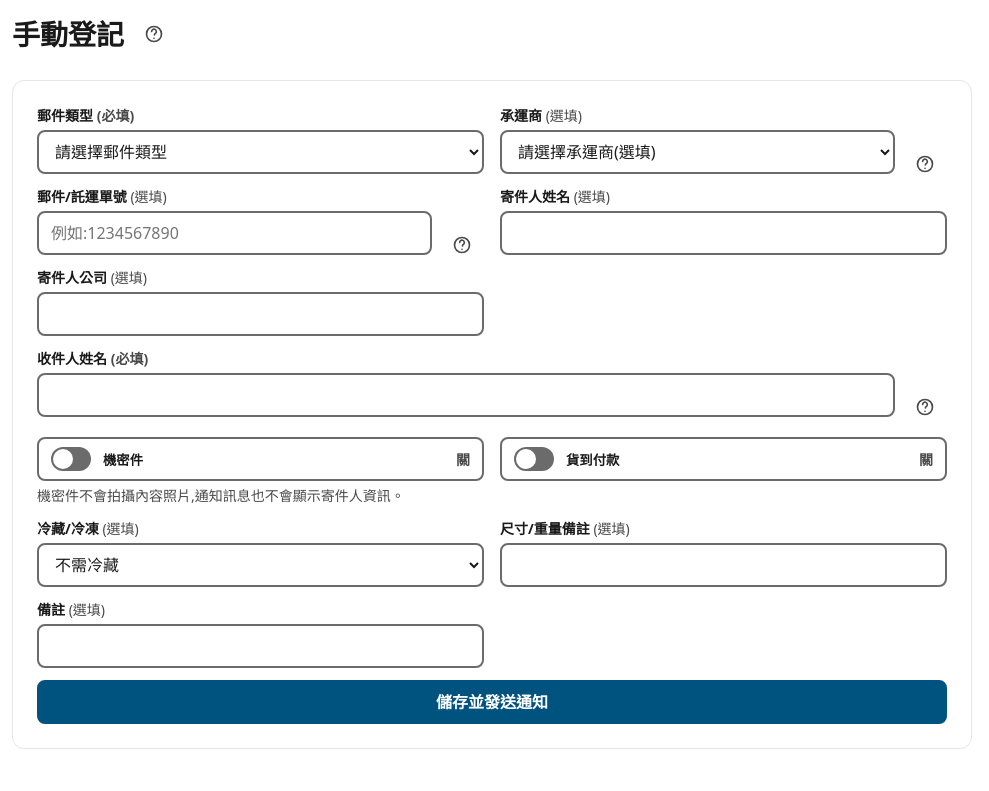
InboundRegisterPage — "其他" carrier free-text field › blocks submit with a validation error when "其他" is selected but the free-text field is left blank
Select "包裹" in the dropdown labelled "郵件類型 (必填)": (260, 152) [37,130,484,174]
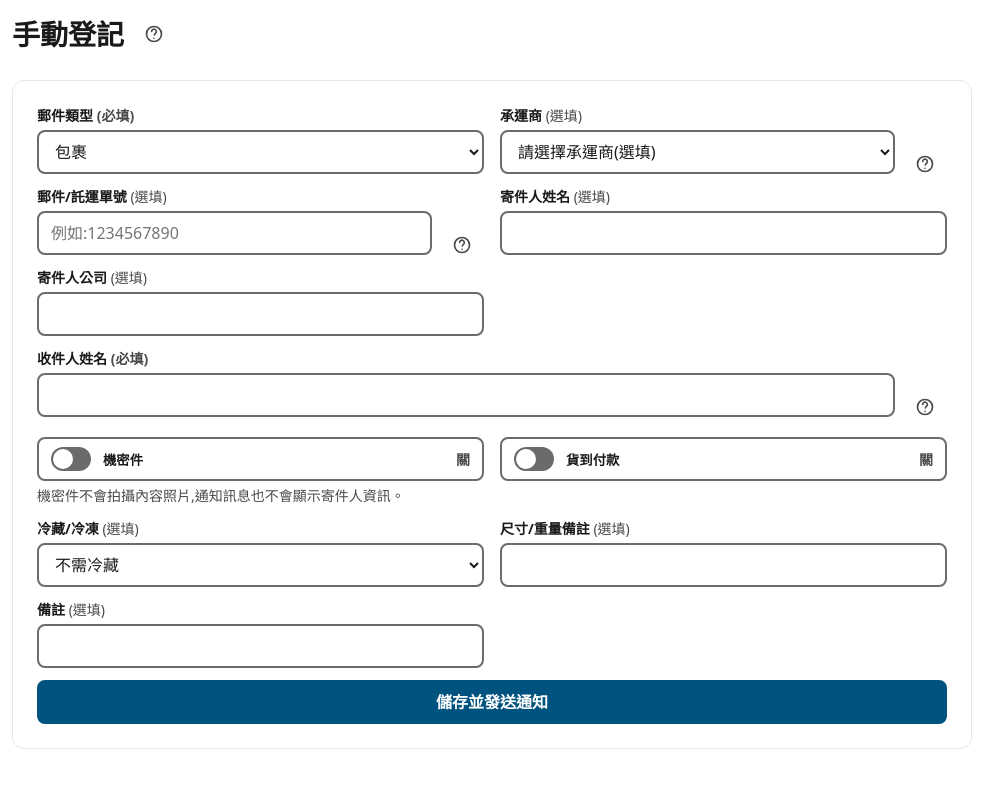
In the field labelled "收件人姓名 (必填)": (466, 395) [37,373,895,417], type "王小明"
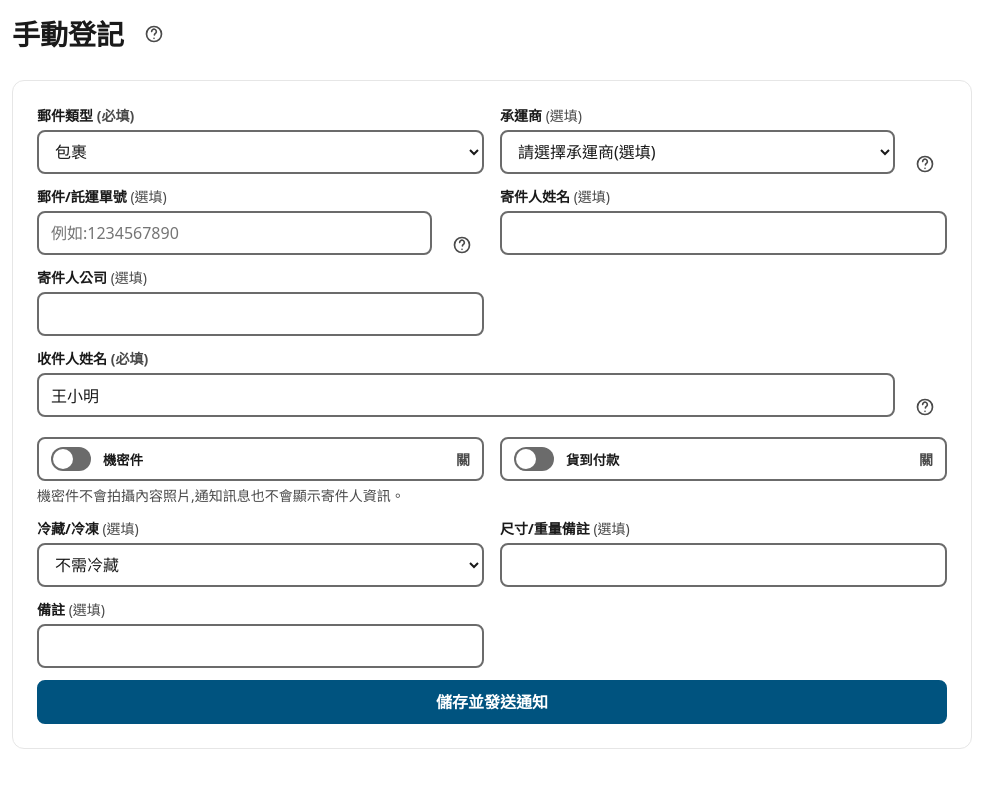
Select "其他" in the dropdown labelled "承運商 (選填)": (698, 152) [500,130,895,174]
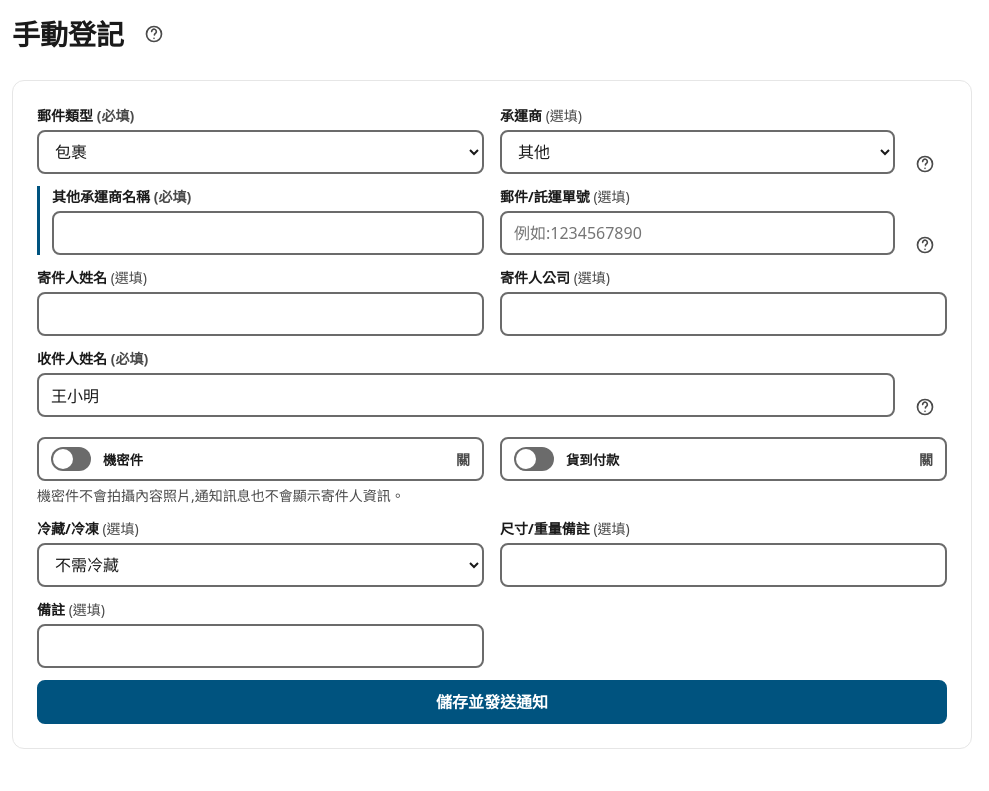
Submit the form
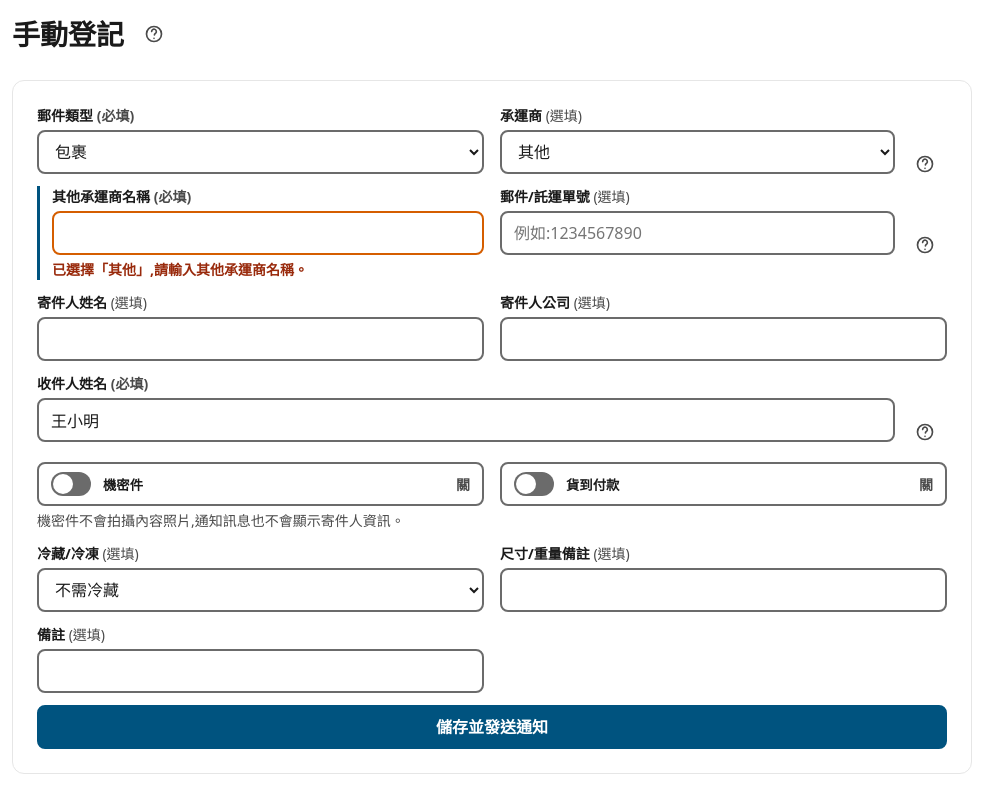
Now the text "已選擇「其他」,請輸入其他承運商名稱。" is shown, box [52,260,308,279]
